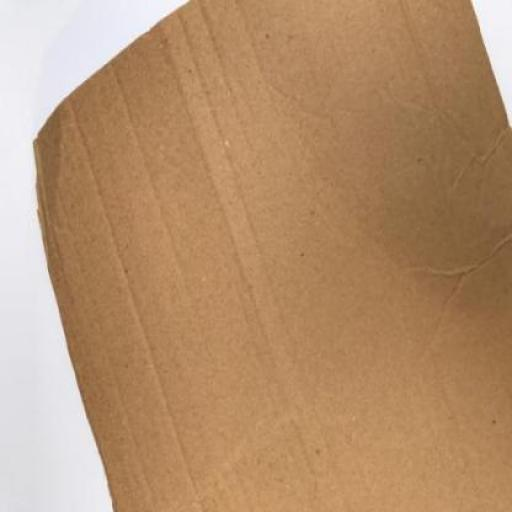cardboard: (32, 0, 512, 511)
